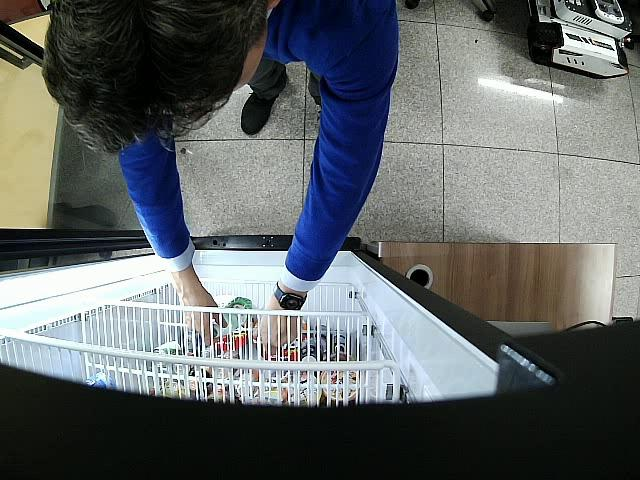00_hand: (172, 280, 227, 346), (260, 309, 300, 355)
18_trevi: (213, 298, 252, 338)
